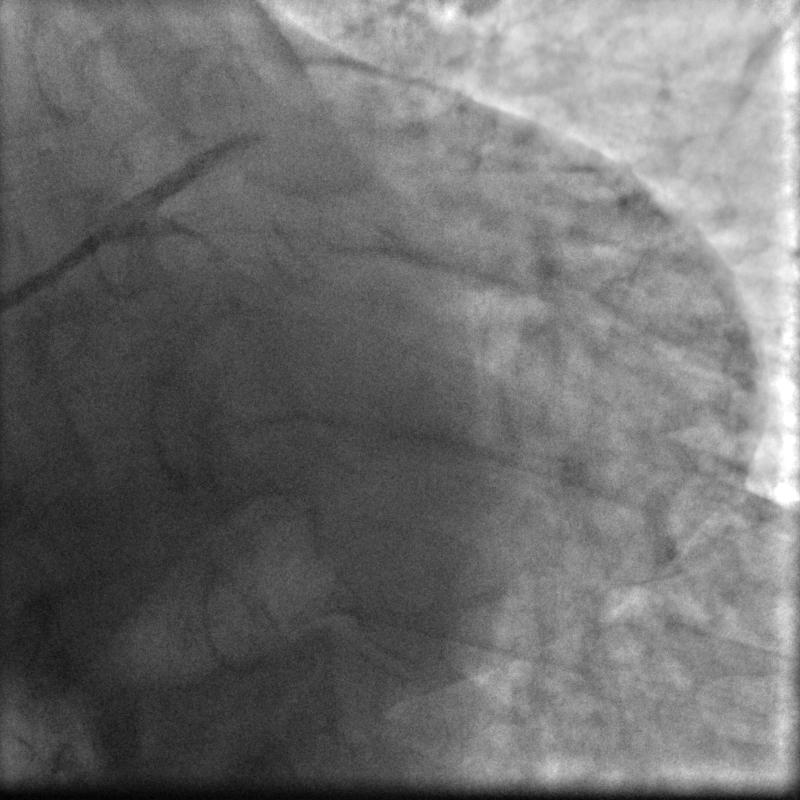Stenosis: (222, 258, 246, 286)
